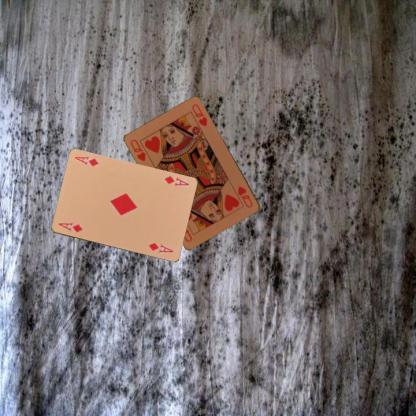Ad: (161, 173, 190, 188), (55, 220, 84, 234)
Qh: (235, 184, 254, 209), (128, 137, 147, 162)
